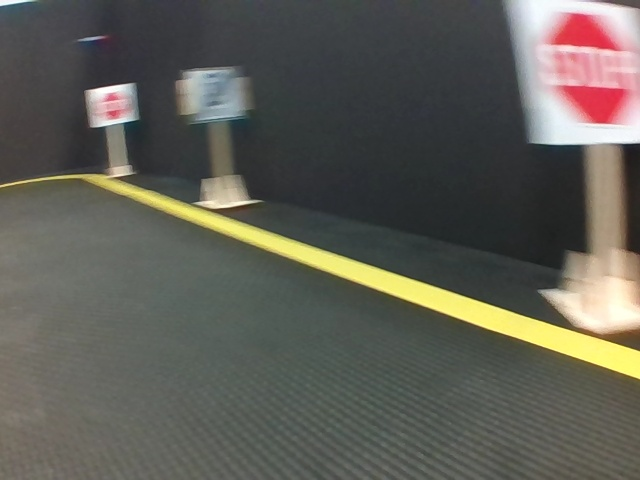no30: (190, 68, 244, 119)
stop: (528, 2, 640, 143), (89, 87, 134, 125)
